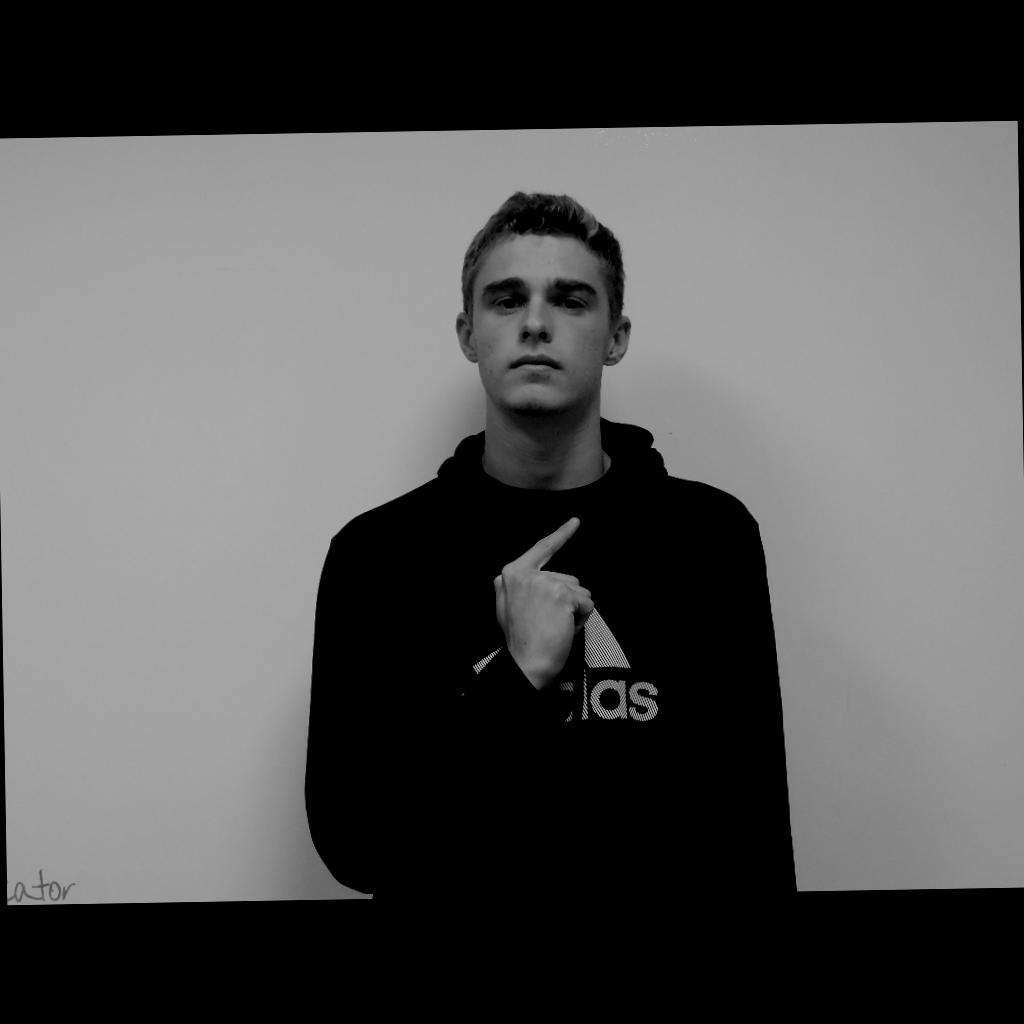I: (493, 516, 594, 680)
